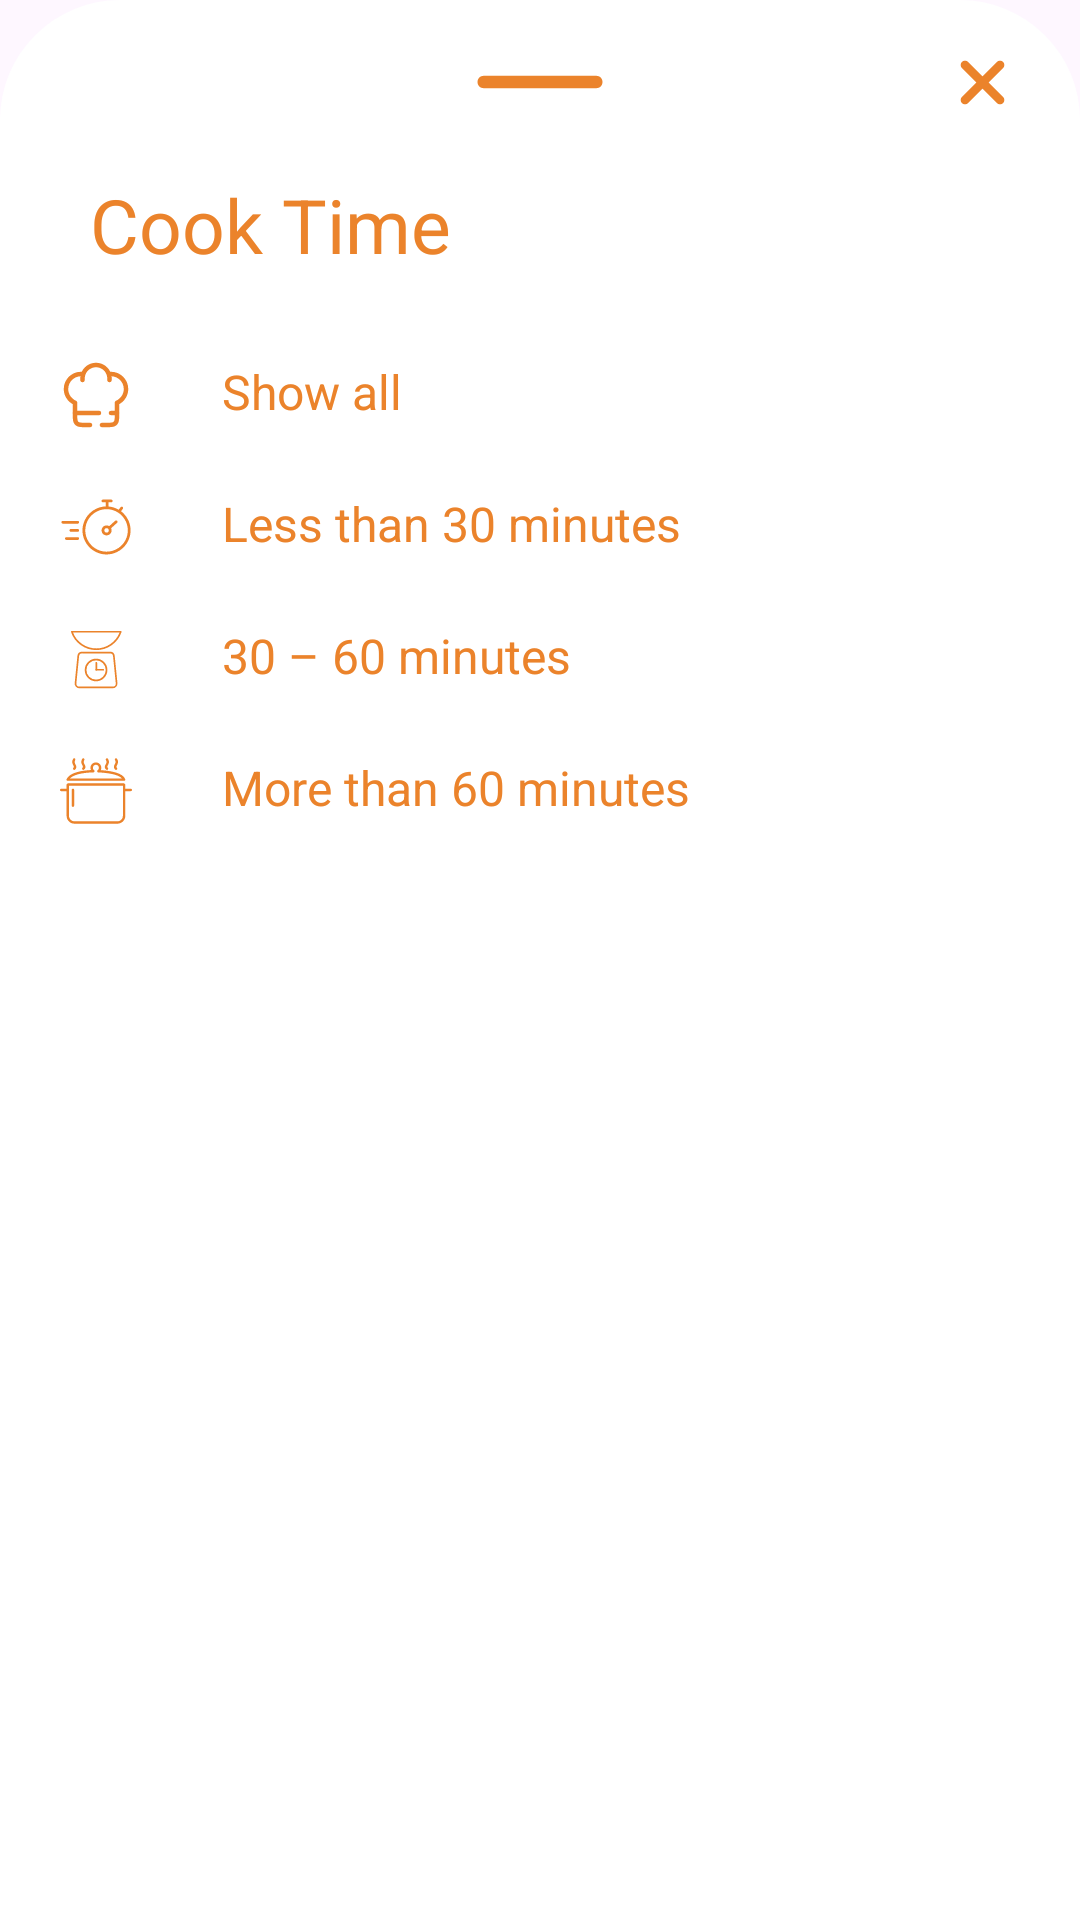

Screen size 1080x1920. Icon name, then its box in pixels as box=[x1, y1, x2, y2]:
Close Button: box=[960, 60, 1005, 105]
